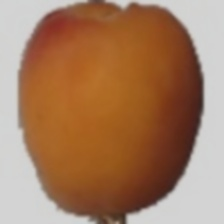apricot: (55, 26, 190, 174)
